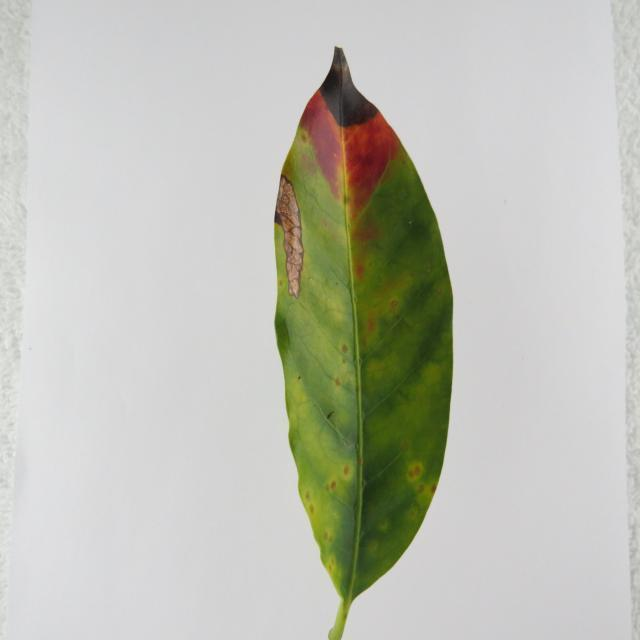DeficienciaNutricional-Fosforo: (275, 47, 452, 638)
